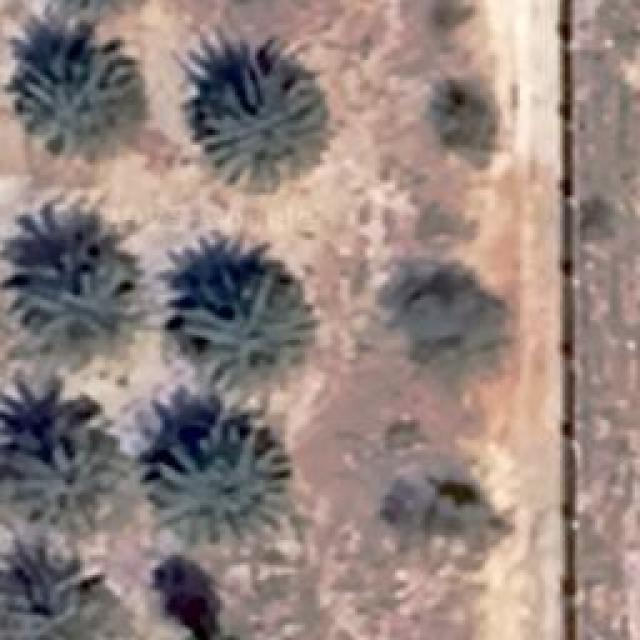PalmTree: (145, 425, 293, 550), (170, 270, 308, 400), (198, 55, 330, 190), (18, 45, 148, 160), (10, 250, 148, 348), (10, 428, 115, 530), (0, 555, 125, 635), (10, 0, 160, 21)
